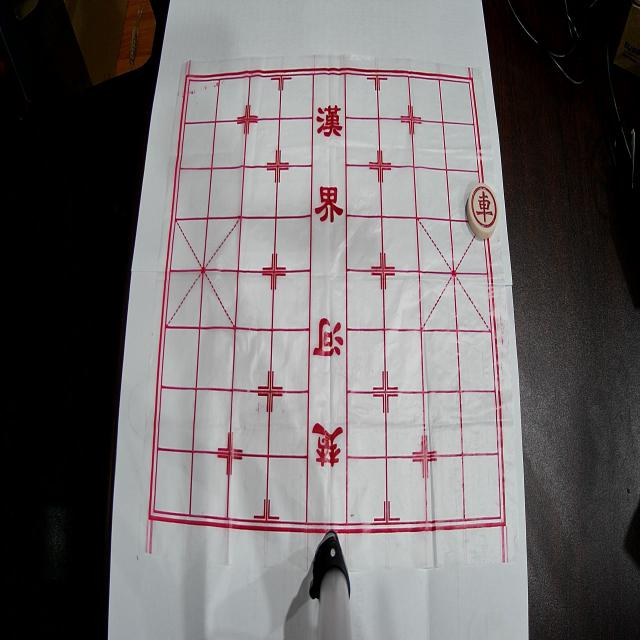red-chariot: (467, 183, 499, 239)
